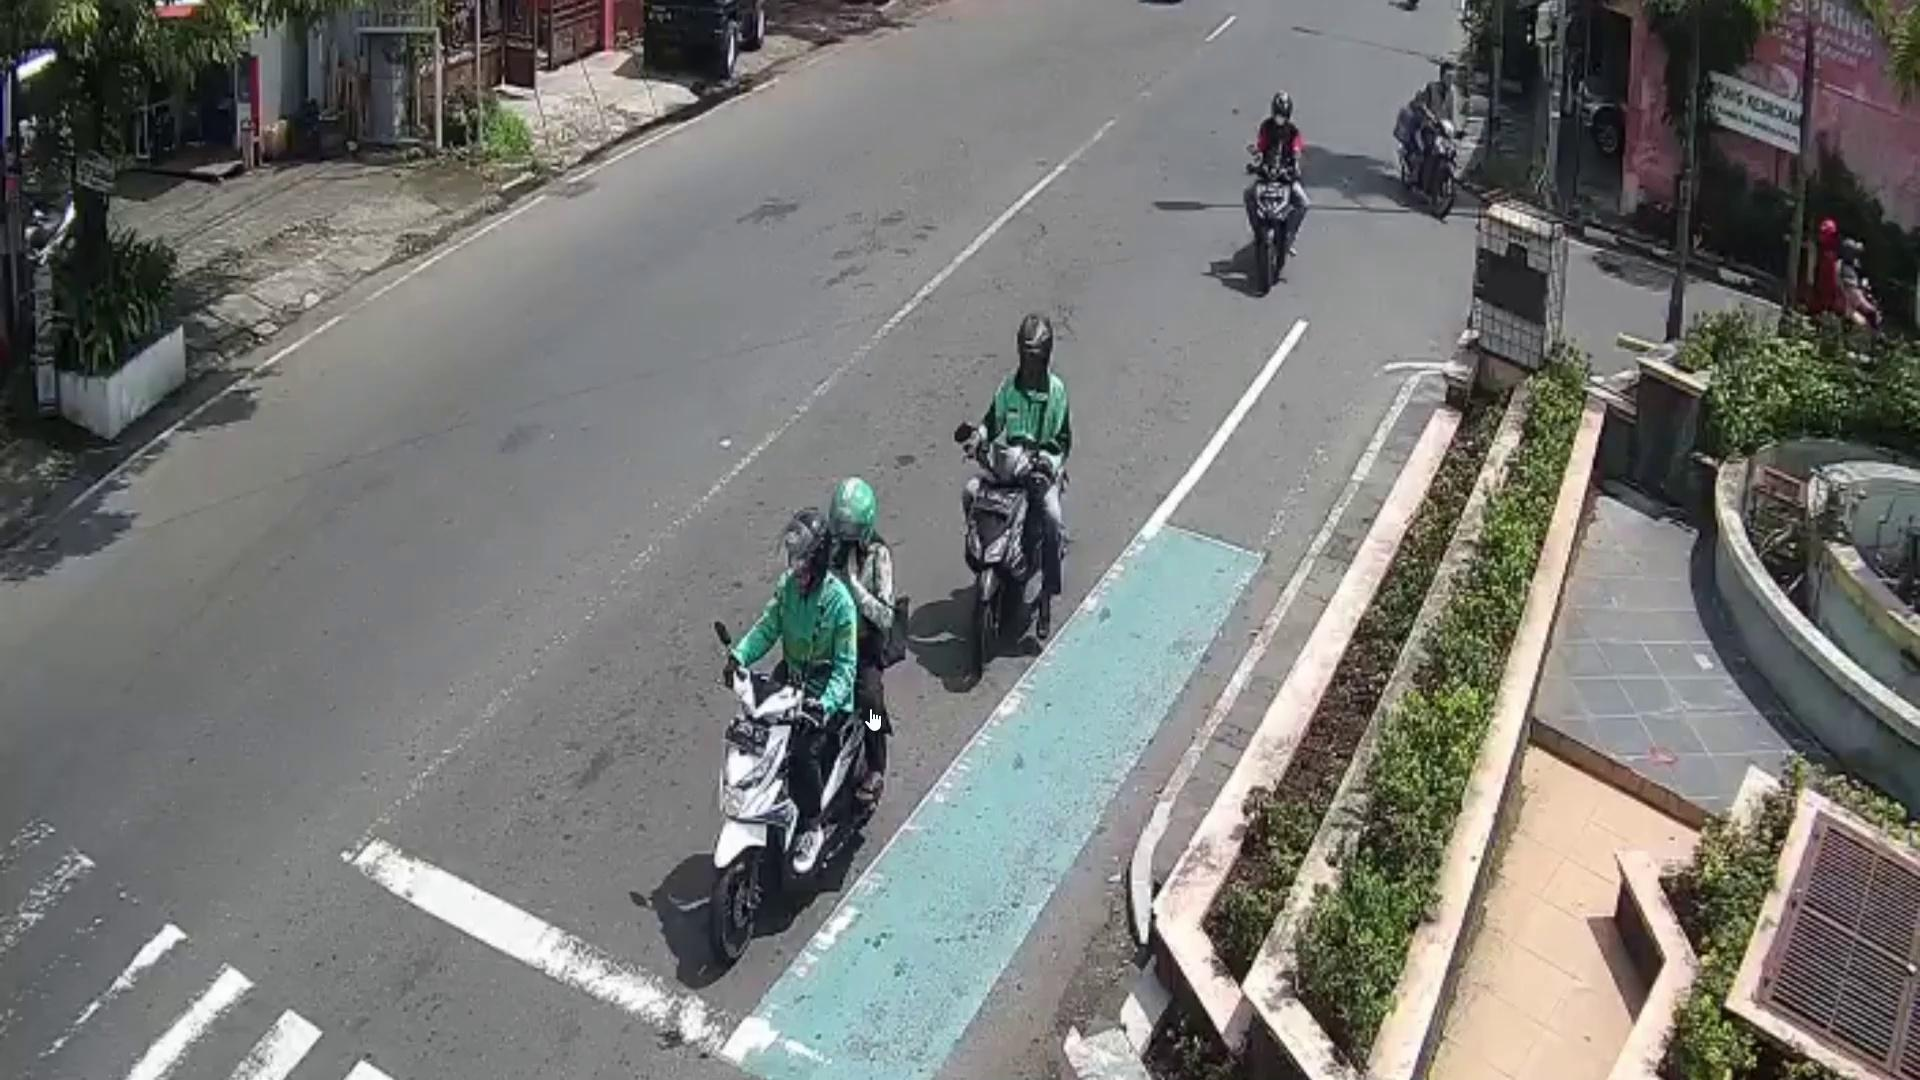motorbike: (707, 674, 876, 960), (968, 438, 1046, 671), (1247, 156, 1305, 297), (1394, 100, 1458, 220)
